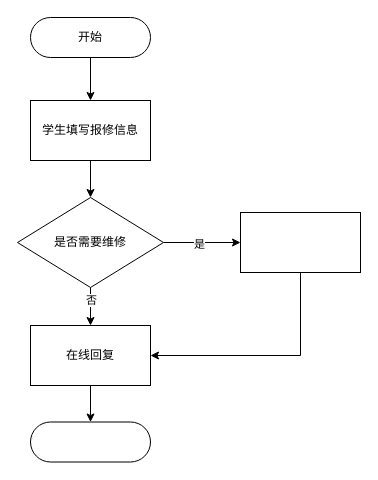
This 378x480 diagram has some shape labels left out. The centre of each missing label's shape, as x and y in pixels:
宿管安排维修人员: pixel 300 242
结束: pixel 90 441
